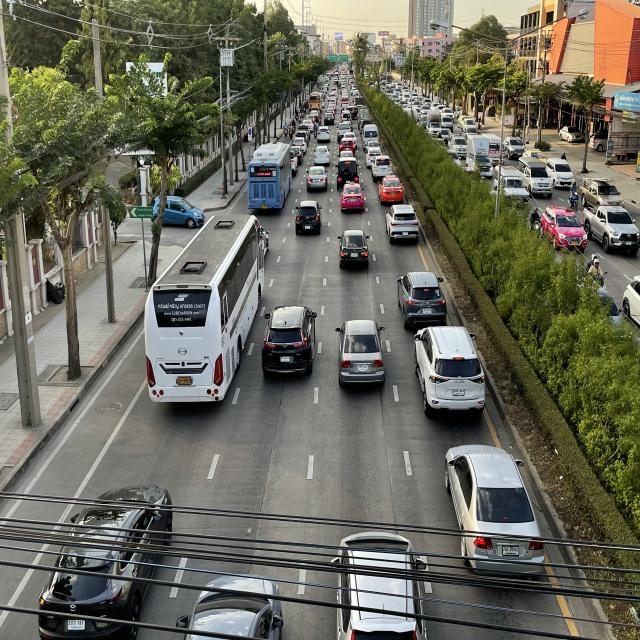bus: (138, 211, 264, 411), (245, 134, 294, 216)
